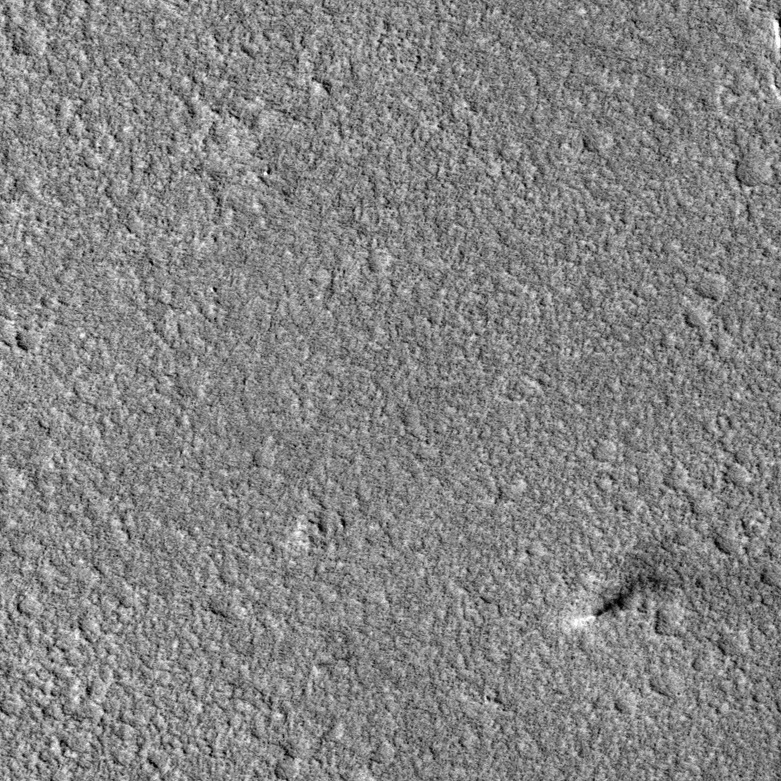dust_devil: (559, 553, 676, 635)
